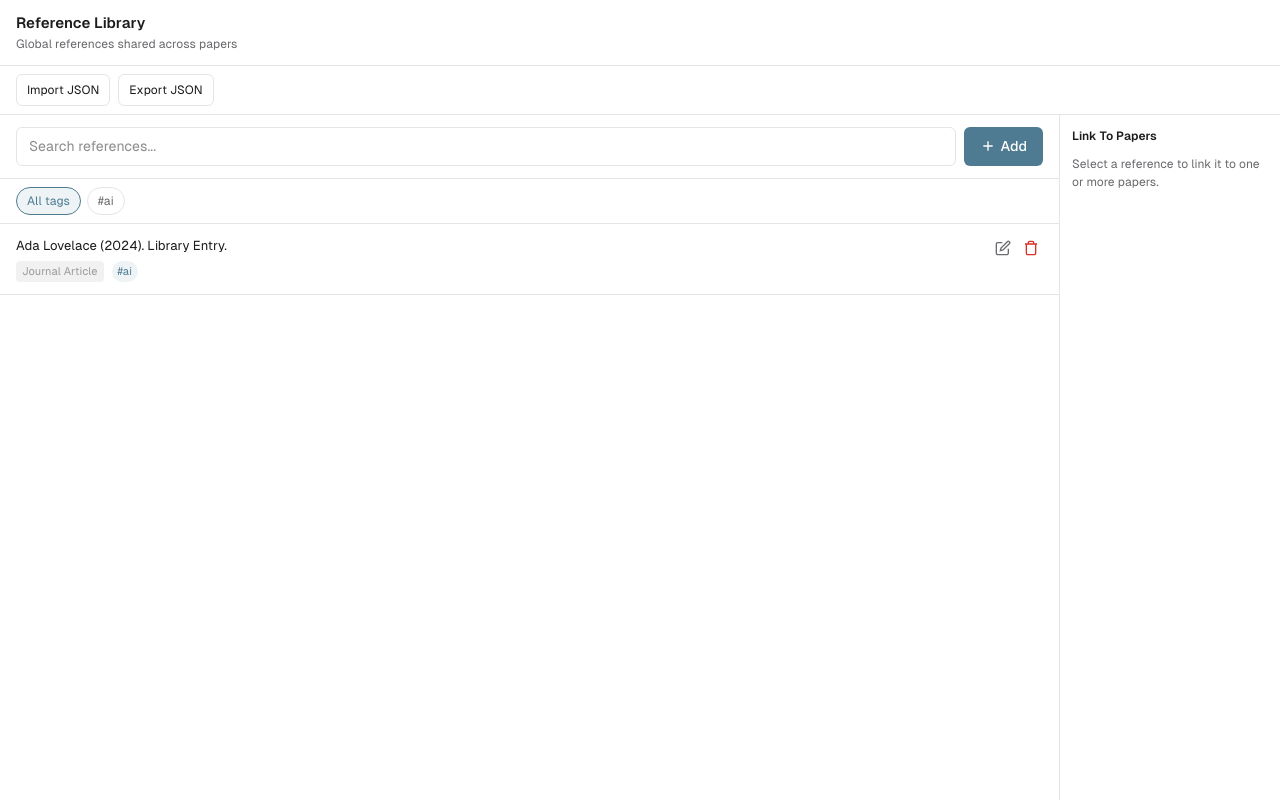
Test: ReferenceLibraryPanel › exports global references as JSON
The image size is (1280, 800).
Click the button "Export JSON" at (166,90), box [118,74,214,106]
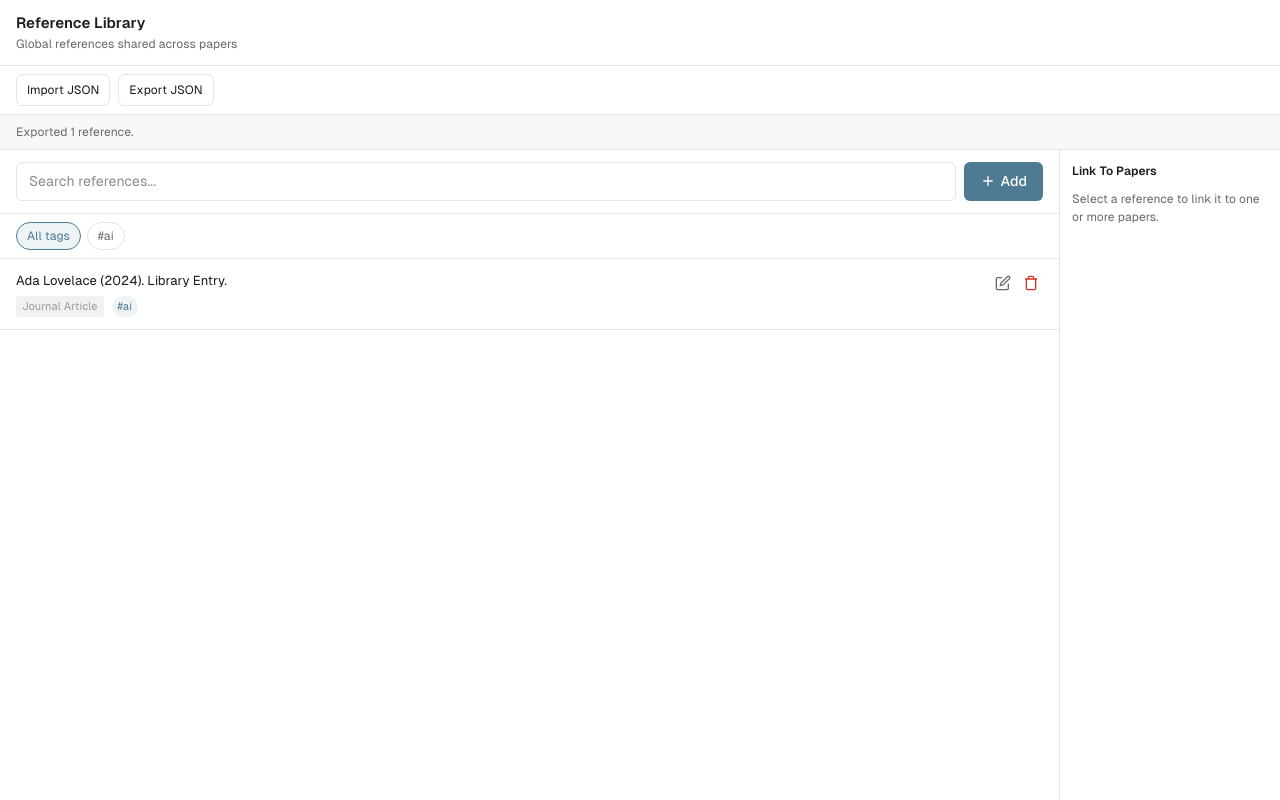
Now the text "Exported 1 reference." is shown, box [0,114,1279,150]
